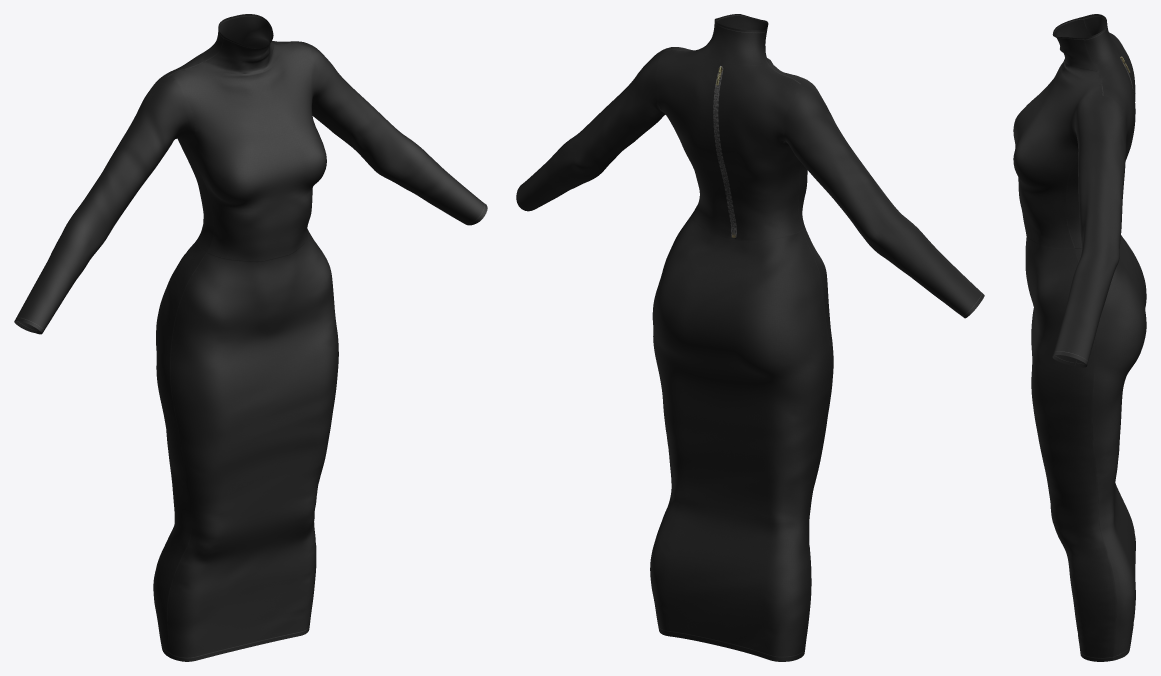
The model's file is black_long_dress_low_poly_mesh.glb.
The picture shows the model from 3 angles, left to right: view 1: azimuth 30°, elevation 25°; view 2: azimuth 150°, elevation 25°; view 3: azimuth 270°, elevation 25°; orthographic projection. The views are drawn at different scales.
Parts seen in each view (by area): view 1: Object_2, Object_3; view 2: Object_2, Object_3, Object_5; view 3: Object_2, Object_3.
Part boxes in pixels (x1,y1,x2,y2): Object_2: (153, 14, 338, 661); Object_3: (14, 42, 487, 334); Object_2: (650, 14, 833, 661); Object_3: (516, 47, 984, 318); Object_5: (713, 65, 736, 237); Object_2: (1013, 14, 1146, 661); Object_3: (1052, 95, 1127, 367).
Bounding box in the file's own units: 99.78 × 128 × 25.36.
4 materials, 4 textured.
